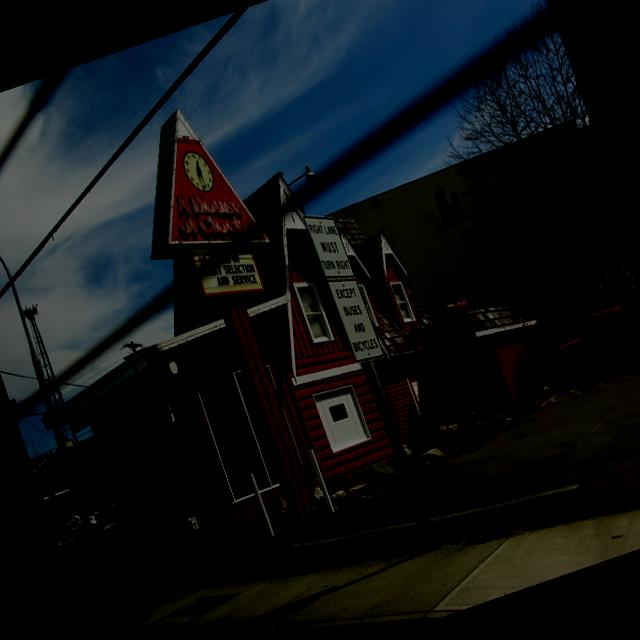Vehicle: (538, 293, 640, 397), (62, 508, 98, 532), (48, 511, 70, 545), (92, 503, 116, 521)
